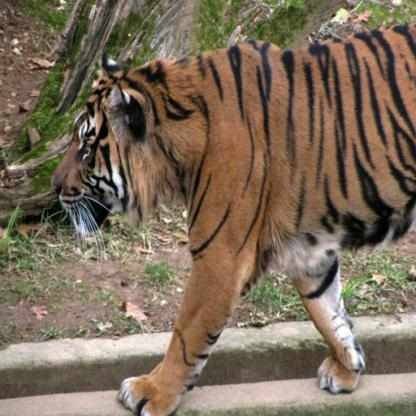Tiger: (45, 17, 415, 415)
